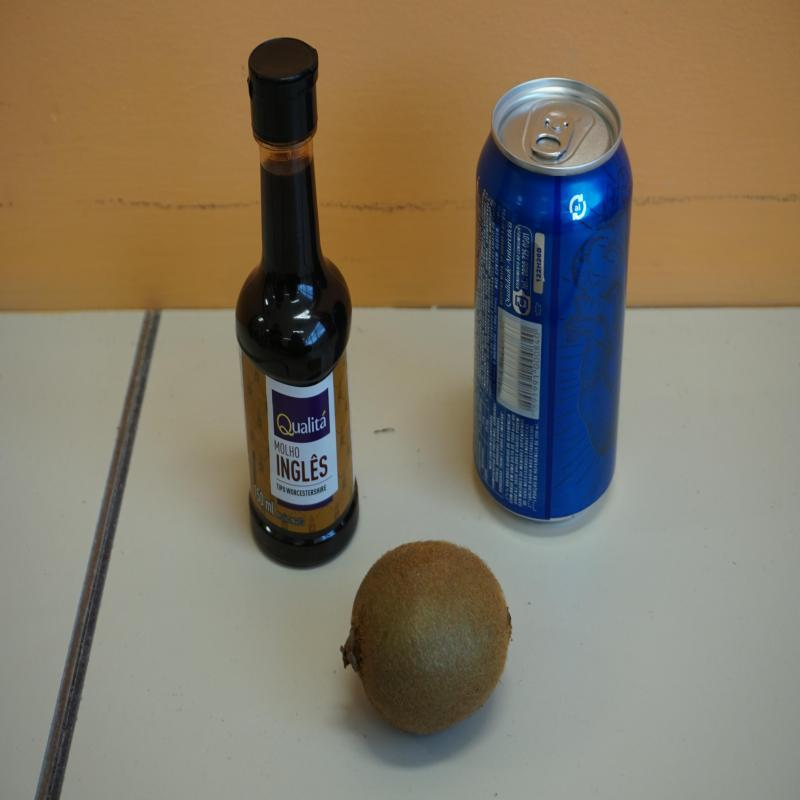EnglishSauce: (234, 38, 359, 573)
Kiwi: (340, 540, 514, 740)
Tonic: (472, 79, 634, 530)
